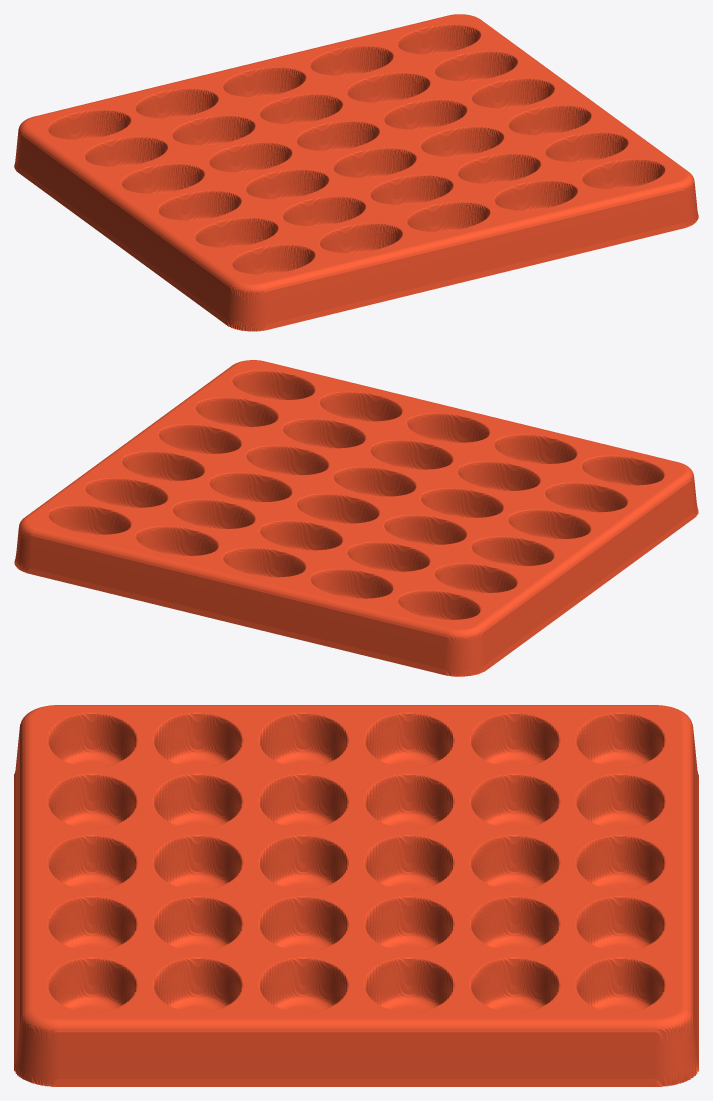
File: mold.glb
The picture shows the model from 3 angles, top to bottom: view 1: azimuth 30°, elevation 25°; view 2: azimuth 150°, elevation 25°; view 3: azimuth 270°, elevation 25°; orthographic projection. The views are drawn at different scales.
Parts seen in each view (by area): view 1: geometry_0; view 2: geometry_0; view 3: geometry_0.
Boxes of the visible parts, bbox=[...] form: geometry_0: bbox=[14, 14, 698, 331]; geometry_0: bbox=[14, 360, 698, 676]; geometry_0: bbox=[14, 705, 698, 1086].
Size of the model in its own units: 0.1581 by 0.0136 by 0.1397.
